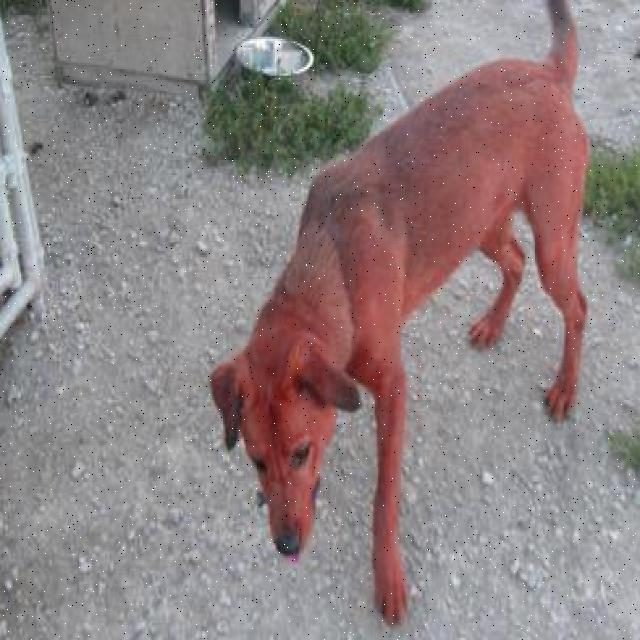Dog: (207, 335, 364, 571)
